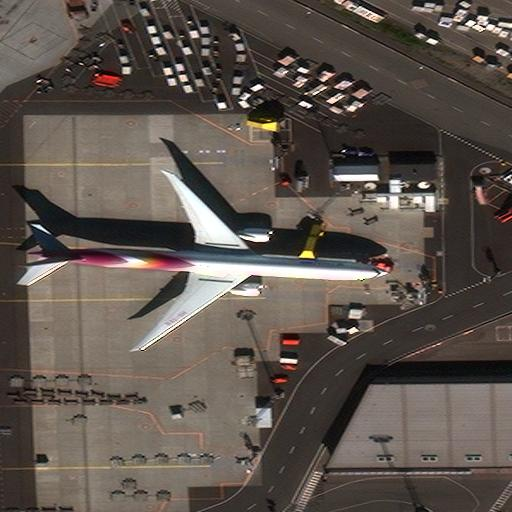Large Civil Transport: (28, 173, 387, 350)
